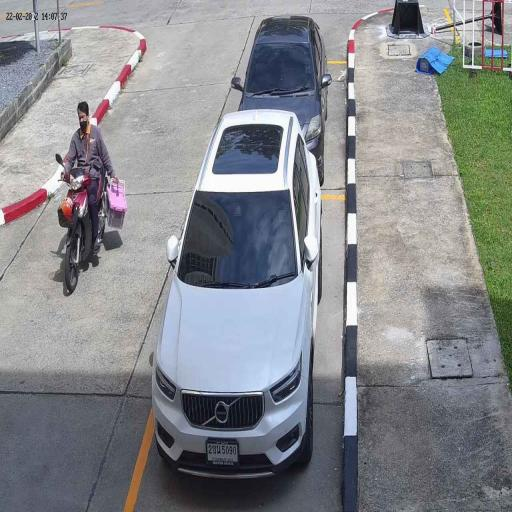car: (151, 110, 322, 482), (236, 13, 328, 186)
motorcycle: (58, 169, 106, 296)
